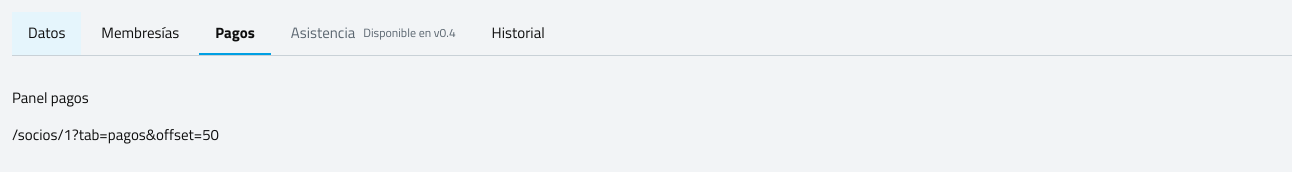
it: Tabs › cambiar de pestaña vuelve a la primera página de su lista
This screenshot has width=1292, height=172.
Click the tab "Membresías": x=140, y=34 x1=85 y1=12 x2=195 y2=56
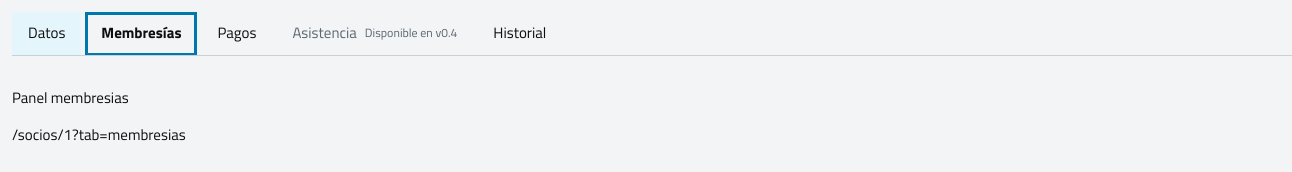
Expected: the text with test id "location" reads "/socios/1?tab=membresias", x1=12 y1=123 x2=186 y2=146
Expected: the text with test id "location" no longer shows "offset", x1=12 y1=123 x2=186 y2=146
